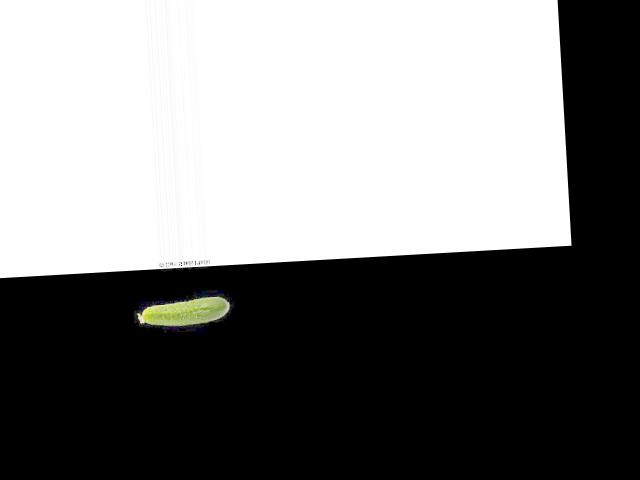cucumber: (137, 296, 230, 327)
